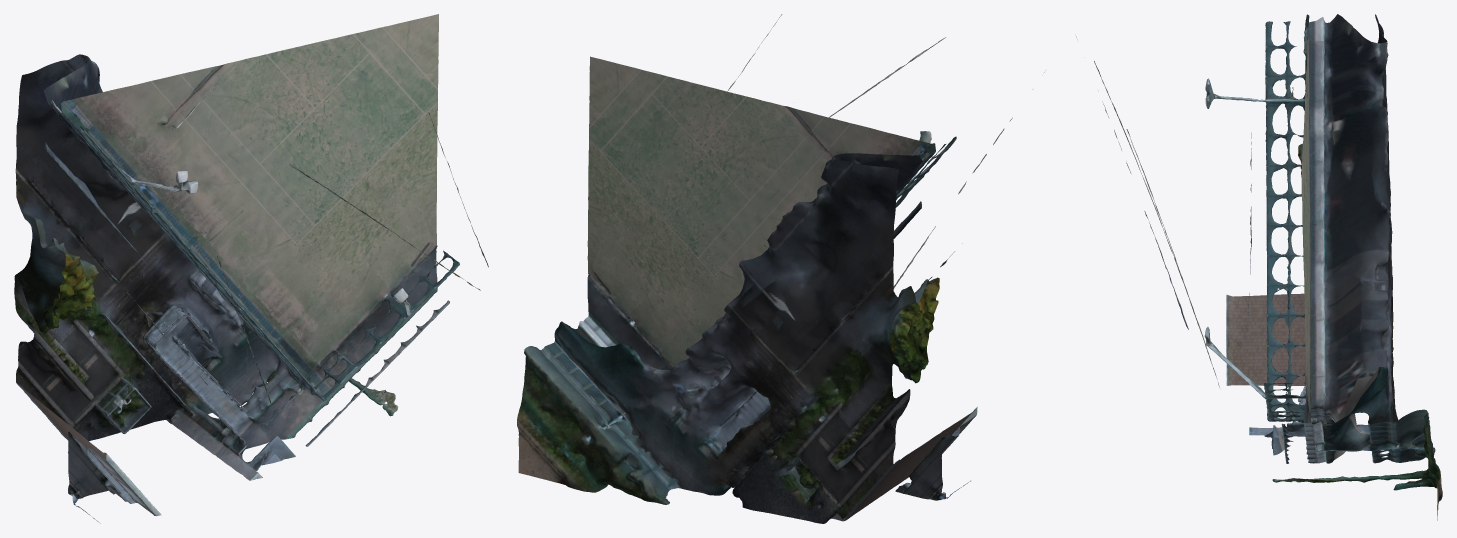
Rendered from Tile_+018_+016.fbx.
The picture shows the model from 3 angles, left to right: view 1: azimuth 30°, elevation 25°; view 2: azimuth 150°, elevation 25°; view 3: azimuth 270°, elevation 25°; orthographic projection. The views are drawn at different scales.
Visible parts, largest first — view 1: DefaultName; view 2: DefaultName; view 3: DefaultName.
Boxes of the visible parts, x1=… form: DefaultName: x1=14, y1=14, x2=488, y2=523; DefaultName: x1=517, y1=14, x2=1044, y2=523; DefaultName: x1=1076, y1=14, x2=1442, y2=520.
Bounding box in the file's own units: 22.54 × 22.54 × 21.59.
